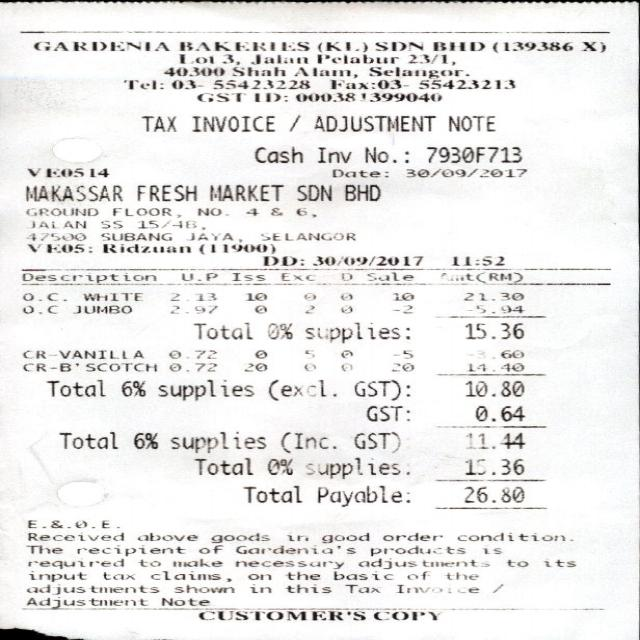text: (167, 430, 264, 452), (304, 322, 408, 342), (312, 114, 433, 131), (157, 379, 252, 400), (303, 456, 398, 477), (314, 485, 407, 505), (23, 183, 119, 200), (21, 270, 154, 282), (425, 144, 518, 160), (25, 596, 147, 608), (267, 379, 336, 400), (189, 114, 271, 131), (20, 360, 155, 370), (354, 558, 488, 568), (208, 182, 282, 200), (295, 92, 441, 101), (198, 611, 362, 619), (26, 584, 157, 594), (178, 40, 308, 50), (350, 379, 408, 400), (32, 41, 167, 50), (20, 348, 141, 358), (310, 255, 422, 265), (280, 432, 336, 452), (455, 530, 563, 540), (74, 544, 181, 554), (56, 430, 114, 448), (192, 456, 250, 474), (368, 66, 461, 77), (134, 183, 194, 200), (352, 431, 400, 452), (463, 485, 522, 502), (192, 322, 250, 339), (44, 378, 102, 395), (466, 432, 524, 449), (464, 458, 522, 475), (240, 485, 298, 502), (403, 168, 525, 176), (492, 41, 572, 53), (235, 546, 354, 554), (463, 380, 522, 396), (369, 544, 463, 554), (464, 322, 522, 338), (211, 79, 308, 88), (233, 560, 342, 568), (415, 79, 511, 88), (24, 558, 120, 567), (198, 242, 274, 253), (438, 271, 520, 281), (395, 583, 477, 593), (316, 53, 397, 63), (250, 146, 300, 162), (472, 404, 522, 420), (26, 532, 123, 540), (259, 232, 353, 240), (26, 519, 109, 528), (328, 79, 408, 88), (148, 570, 219, 580), (99, 244, 187, 252), (364, 404, 408, 420), (363, 146, 406, 162), (210, 531, 267, 543), (294, 66, 355, 77), (343, 182, 379, 200), (446, 116, 492, 130), (162, 66, 223, 76), (110, 206, 177, 215), (295, 182, 328, 200), (382, 530, 440, 540), (320, 531, 368, 543), (97, 232, 168, 240), (432, 40, 482, 51), (81, 292, 142, 301), (330, 570, 391, 579), (140, 114, 172, 131), (316, 146, 350, 162), (250, 53, 304, 63), (230, 66, 284, 76), (449, 254, 503, 264), (372, 611, 439, 619), (374, 40, 422, 51), (23, 167, 81, 176), (27, 572, 85, 581), (406, 53, 453, 64), (25, 244, 88, 252), (466, 361, 522, 370), (316, 40, 366, 50), (26, 207, 97, 214), (261, 254, 302, 266), (166, 348, 215, 358), (172, 584, 233, 592), (167, 303, 215, 313), (72, 304, 131, 312), (136, 219, 194, 227), (136, 532, 194, 540), (131, 430, 156, 448), (265, 457, 291, 474), (28, 219, 83, 227), (28, 232, 83, 240), (330, 168, 384, 176), (167, 361, 215, 370), (462, 292, 523, 299), (265, 322, 290, 339), (366, 271, 412, 280), (195, 92, 240, 101), (474, 304, 522, 312), (120, 380, 144, 396), (172, 558, 220, 566), (282, 584, 330, 592), (160, 597, 207, 605), (122, 79, 160, 88), (189, 232, 231, 240), (177, 53, 210, 63), (22, 292, 57, 301), (442, 570, 477, 579), (253, 92, 286, 101), (180, 271, 216, 279), (278, 272, 313, 280), (21, 304, 56, 312), (25, 544, 60, 552), (284, 571, 319, 579), (344, 584, 378, 592), (168, 79, 198, 88), (232, 272, 264, 280), (404, 570, 429, 580), (196, 543, 220, 553), (241, 361, 266, 370), (542, 559, 574, 566), (580, 40, 602, 50), (99, 572, 133, 578), (136, 558, 160, 566), (194, 291, 214, 300), (98, 219, 120, 227), (500, 349, 522, 357), (221, 53, 238, 63), (196, 207, 220, 214), (389, 292, 412, 299), (388, 362, 411, 369), (288, 114, 298, 130), (244, 291, 264, 299), (479, 546, 501, 553), (88, 167, 105, 176), (295, 206, 312, 215), (391, 304, 410, 312), (245, 572, 269, 578), (246, 586, 269, 592), (286, 533, 305, 540), (392, 349, 408, 357), (301, 361, 315, 370), (506, 560, 527, 566), (167, 292, 179, 301), (253, 349, 266, 357), (242, 207, 256, 214), (338, 272, 350, 280), (302, 291, 314, 299), (253, 304, 265, 312), (338, 304, 350, 312), (337, 349, 350, 356), (302, 304, 313, 312), (302, 349, 313, 357), (338, 292, 350, 299), (338, 362, 350, 369), (491, 584, 501, 592), (267, 208, 278, 214)
